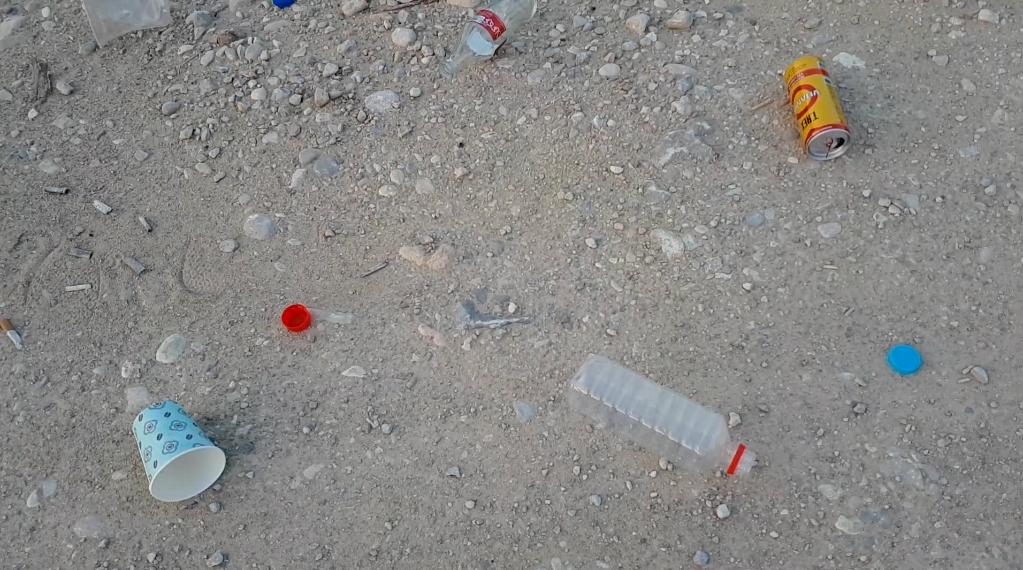garbage: (546, 332, 777, 500), (569, 355, 758, 479), (764, 48, 876, 169), (123, 400, 230, 514), (421, 2, 550, 78), (440, 0, 538, 78), (785, 56, 853, 161)
